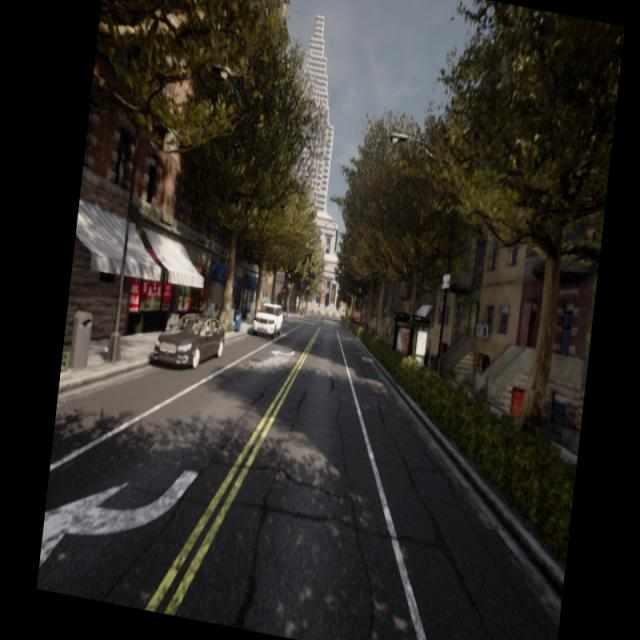stop sign: (347, 303, 365, 325)
